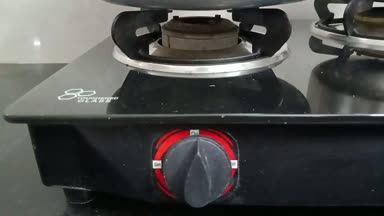noflame_gason: (109, 6, 291, 211)
